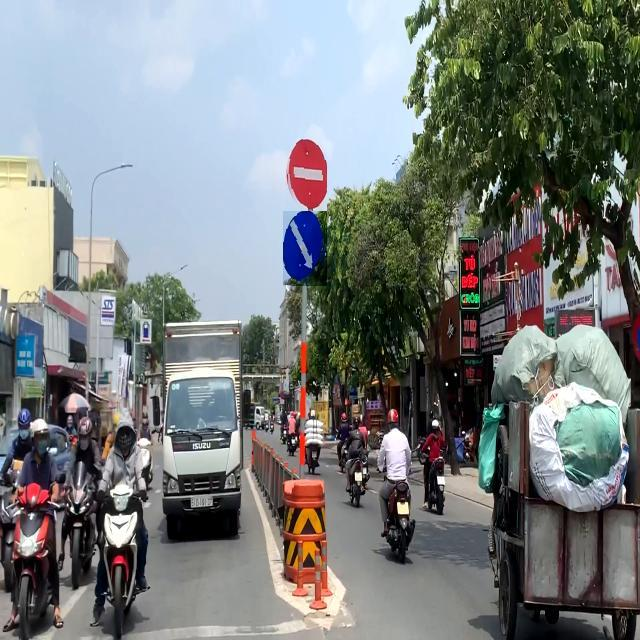P-102: (285, 136, 327, 212)
R-302a: (283, 211, 327, 286)
